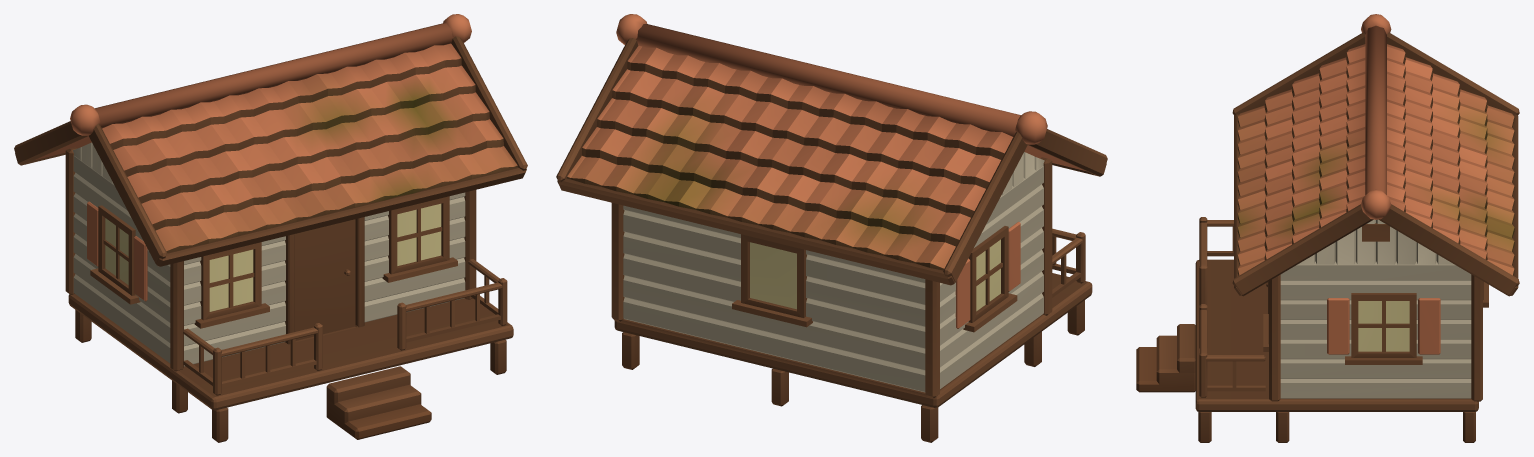
File: rumah_a.glb
3 renders of one model, left to right at view 1: azimuth 30°, elevation 25°; view 2: azimuth 150°, elevation 25°; view 3: azimuth 270°, elevation 25°, orthographic. The views are drawn at different scales.
Parts seen in each view (by area): view 1: rumah_a_mesh; view 2: rumah_a_mesh; view 3: rumah_a_mesh.
Part boxes in pixels (box(x1,y1,x2,y2)): rumah_a_mesh: box(14, 14, 527, 442); rumah_a_mesh: box(556, 14, 1107, 442); rumah_a_mesh: box(1136, 14, 1519, 442).
Bounding box in the file's own units: 5.73 × 3.86 × 4.92.
